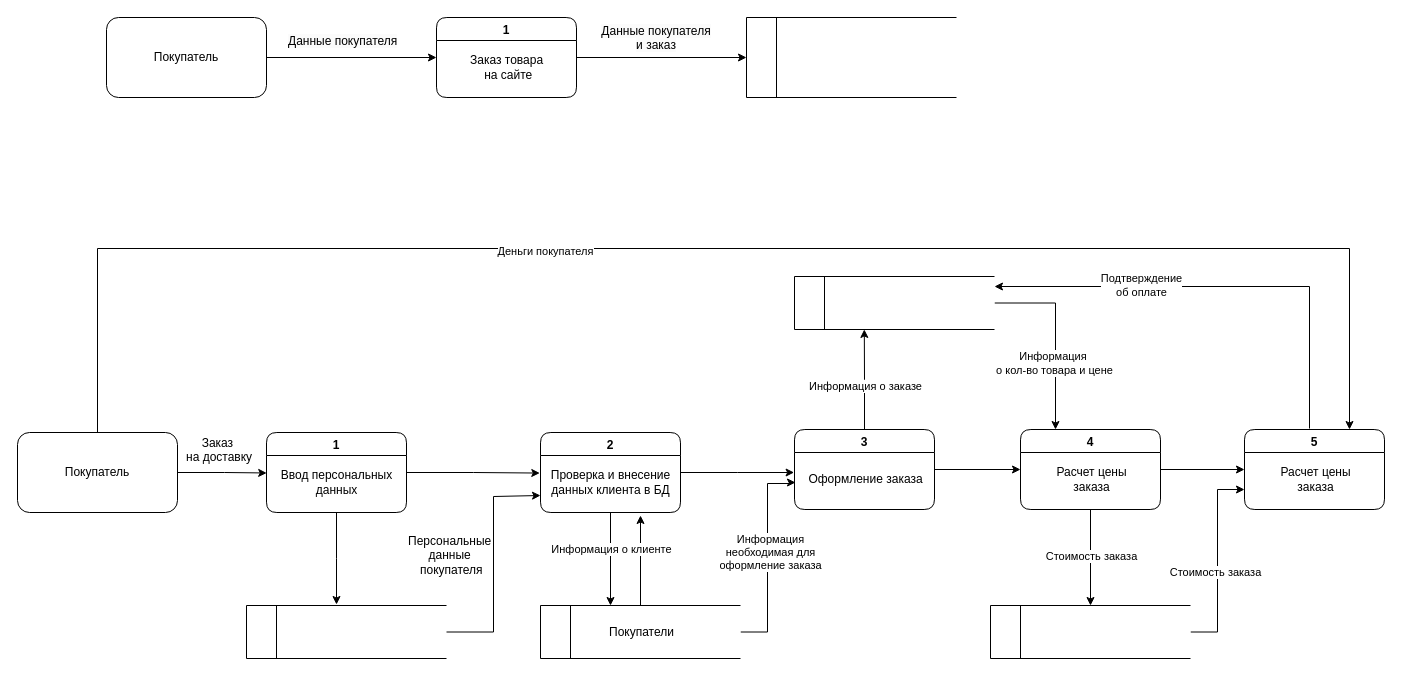
The diagram is 1402 pixels wide and 676 high, and some of its shapes have lost their labels. Each missing label, with the box of its shape:
Данные формы персональных данных: (246, 604, 446, 658)
Заказы: (794, 276, 994, 330)
Счет на оплату: (990, 604, 1190, 658)
Хранилище данных покупателей и заказов: (746, 16, 956, 98)
